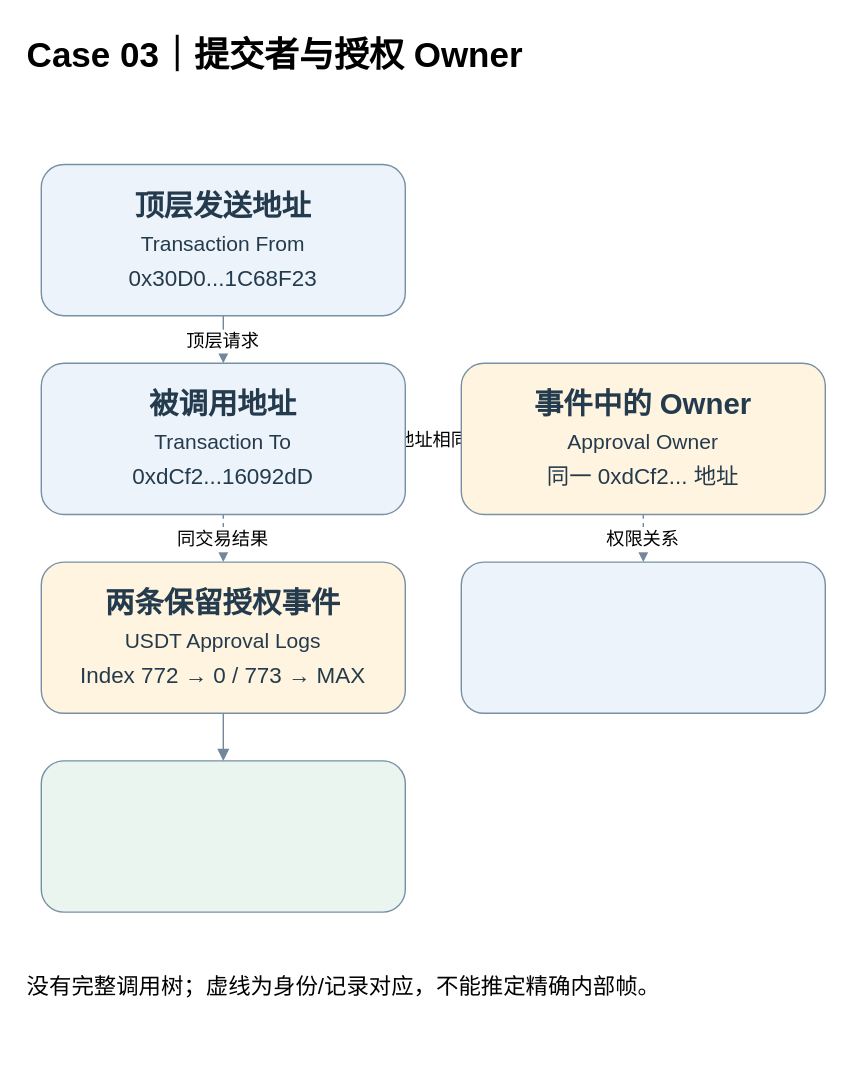
Image size: 865x1085. Some labels were removed from this diagram. Here are the shapes that lost their labels. From the top down, the centre of each, then its label:
point (642, 637): 被授权使用者 Router Spender 0xE592...5861564
point (222, 836): 额度不是资金流 Allowance ≠ Transfer MAX 为最大 Uint256
